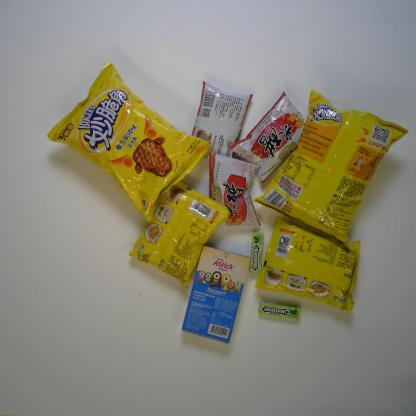Dessert: (181, 244, 252, 346)
Gum: (257, 300, 302, 320), (248, 231, 264, 276)
Instant Noodles: (128, 180, 232, 290), (254, 216, 362, 314)
Puffed Food: (46, 60, 212, 224), (251, 88, 410, 244)
Seasoner: (227, 90, 306, 184), (191, 80, 254, 160), (207, 149, 262, 228)
